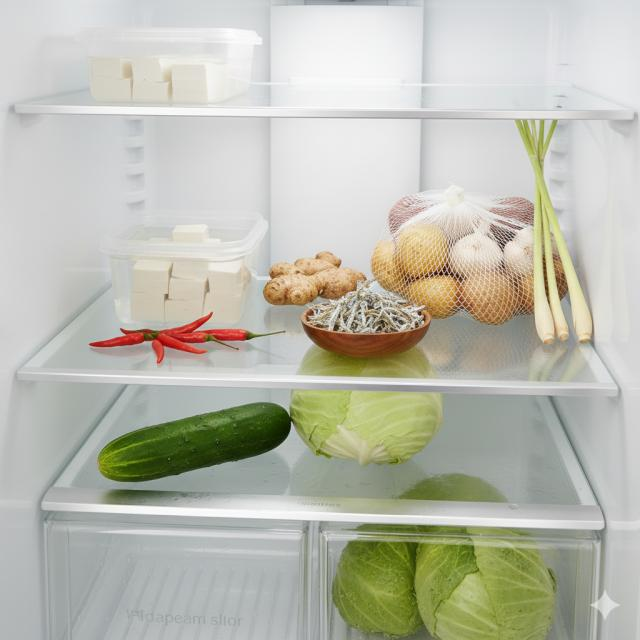anchovies: (306, 278, 426, 335)
cabbage: (333, 527, 557, 640), (287, 343, 444, 465)
chili: (90, 311, 287, 364)
cucumber: (96, 402, 292, 483)
ginger: (263, 250, 368, 306)
lemongrass: (514, 118, 593, 346)
potato: (371, 221, 516, 325)
tofu: (130, 222, 247, 327), (90, 52, 230, 104)
